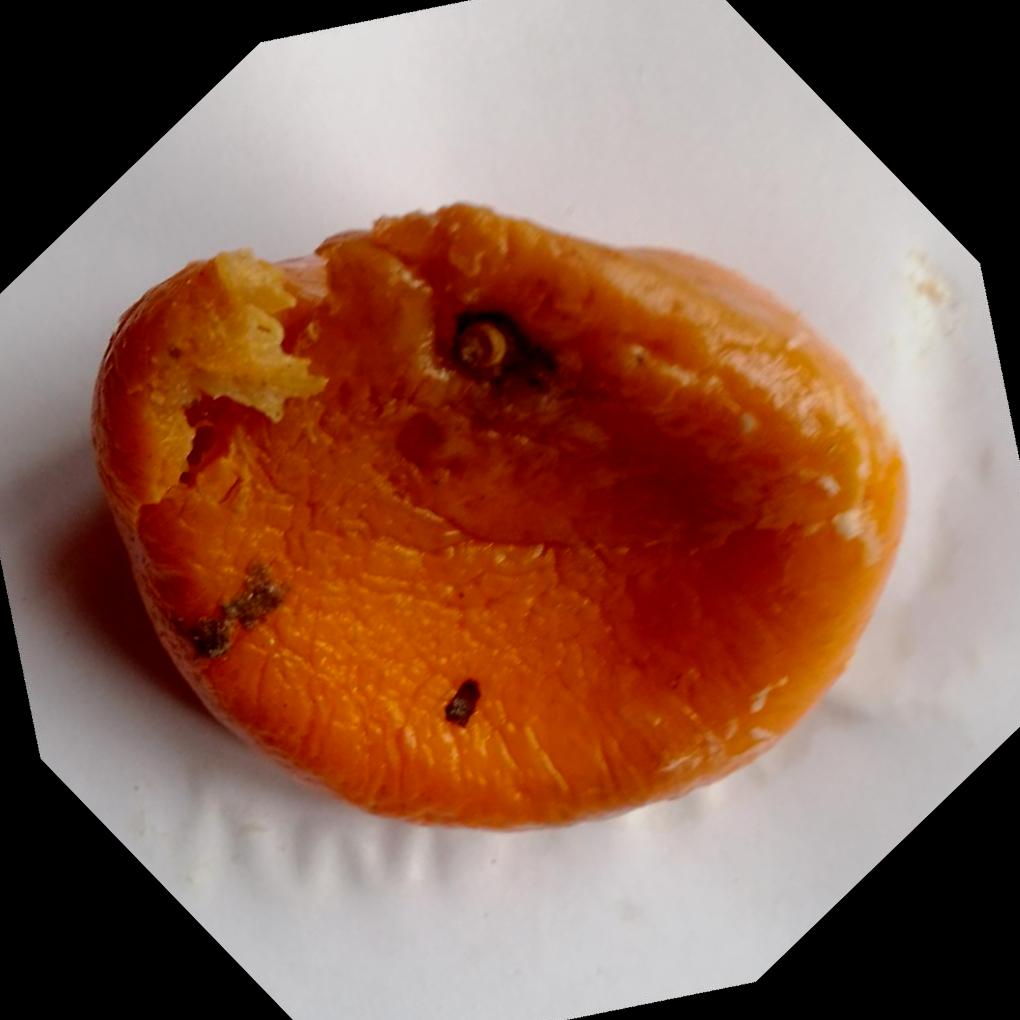FreshOrange: (88, 201, 912, 836)
